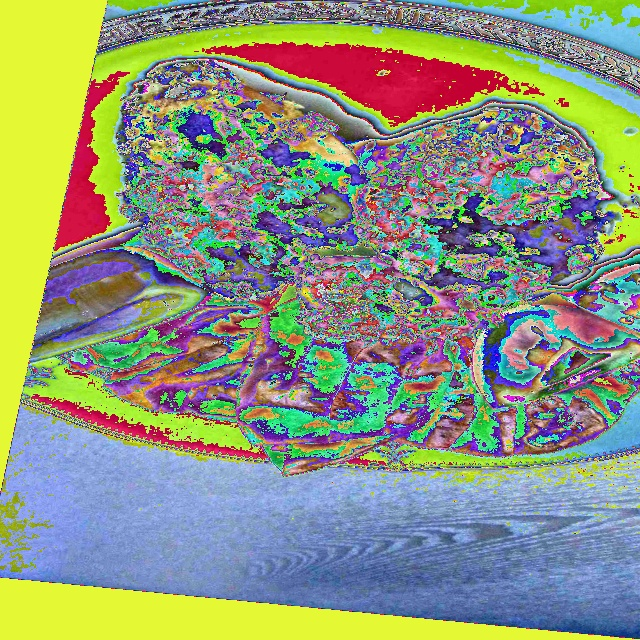background: (29, 59, 639, 477)
